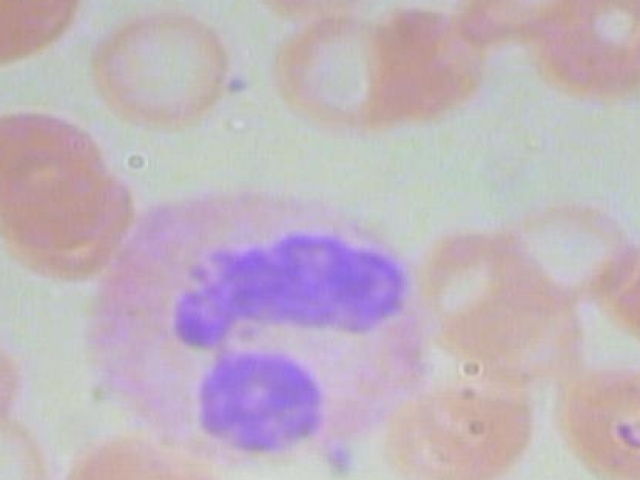RBC: (86, 1, 244, 133), (270, 4, 423, 134), (541, 351, 640, 480), (517, 0, 640, 92), (54, 437, 246, 480), (0, 0, 84, 70), (0, 404, 71, 480), (0, 325, 28, 416)
WBC: (62, 176, 431, 470)
